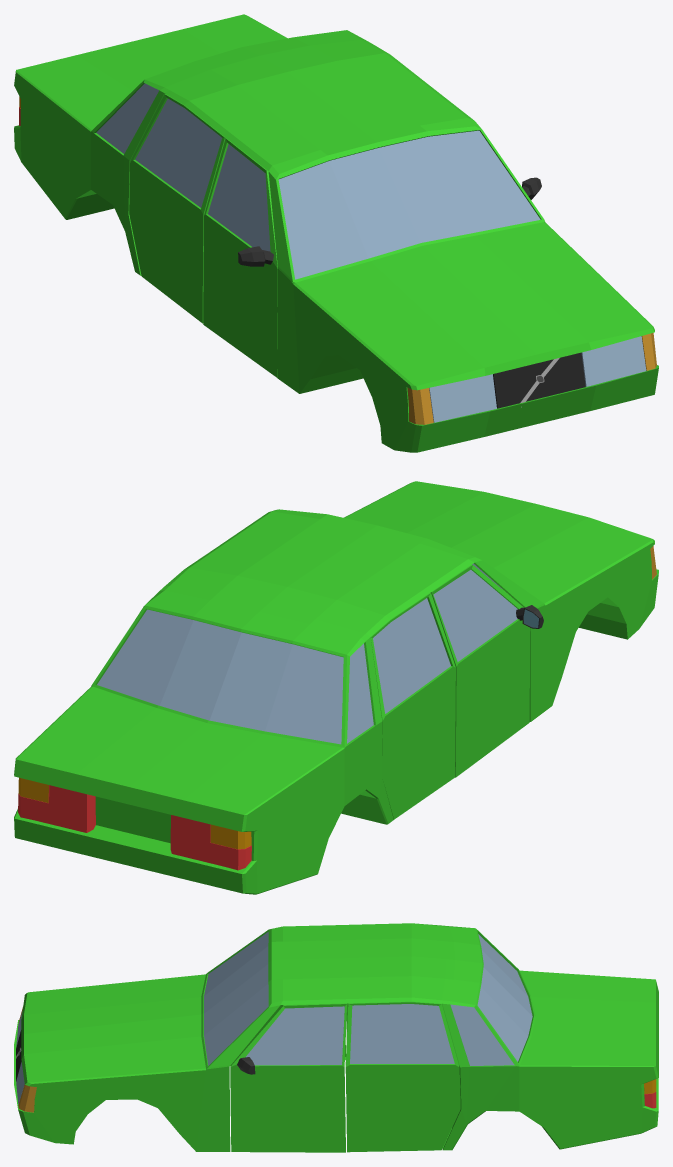
File: VOLVO_green.fbx
The picture shows the model from 3 angles, top to bottom: view 1: azimuth 30°, elevation 25°; view 2: azimuth 150°, elevation 25°; view 3: azimuth 270°, elevation 25°; orthographic projection. The views are drawn at different scales.
Visible parts, largest first — view 1: Cube, Plane; view 2: Cube, Plane.002, Plane.001; view 3: Cube, Plane.
Part boxes in pixels (bbox=[...]): Cube: bbox=[14, 14, 658, 452]; Plane: bbox=[407, 333, 656, 424]; Cube: bbox=[14, 481, 658, 894]; Plane.002: bbox=[170, 815, 251, 870]; Plane.001: bbox=[18, 777, 95, 832]; Cube: bbox=[14, 923, 658, 1152]; Plane: bbox=[16, 1006, 36, 1112].
Bounding box in the file's own units: 378 × 230 × 904.
